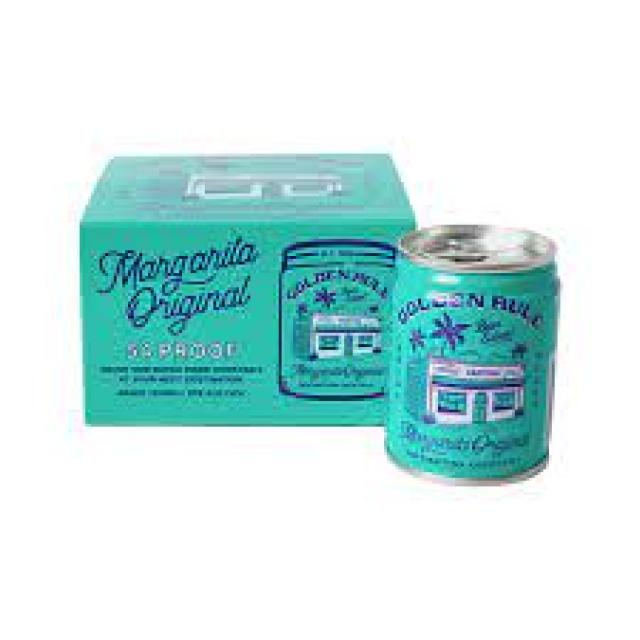Cans: (378, 216, 564, 492)
